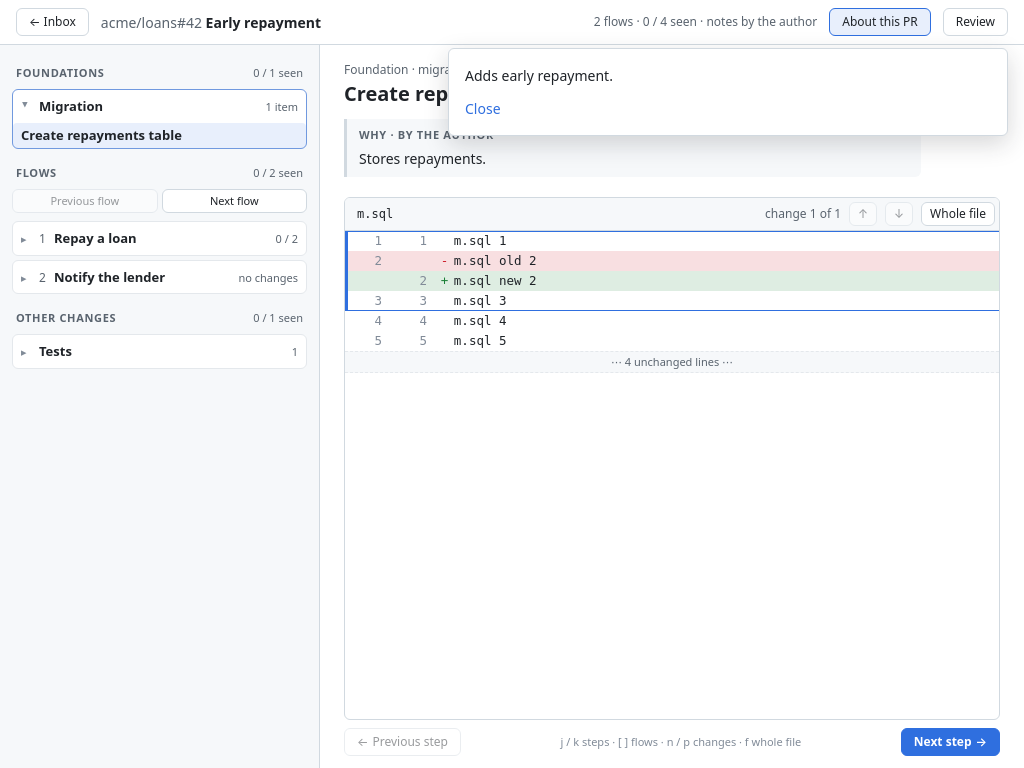
typed text across moves › a comment that was added does not come back
The image size is (1024, 768).
Expected: the text "m.sql new 2" is shown, [454,272,537,288]
Click the button named "Comment on line 2": (412, 280) [390,270,435,290]
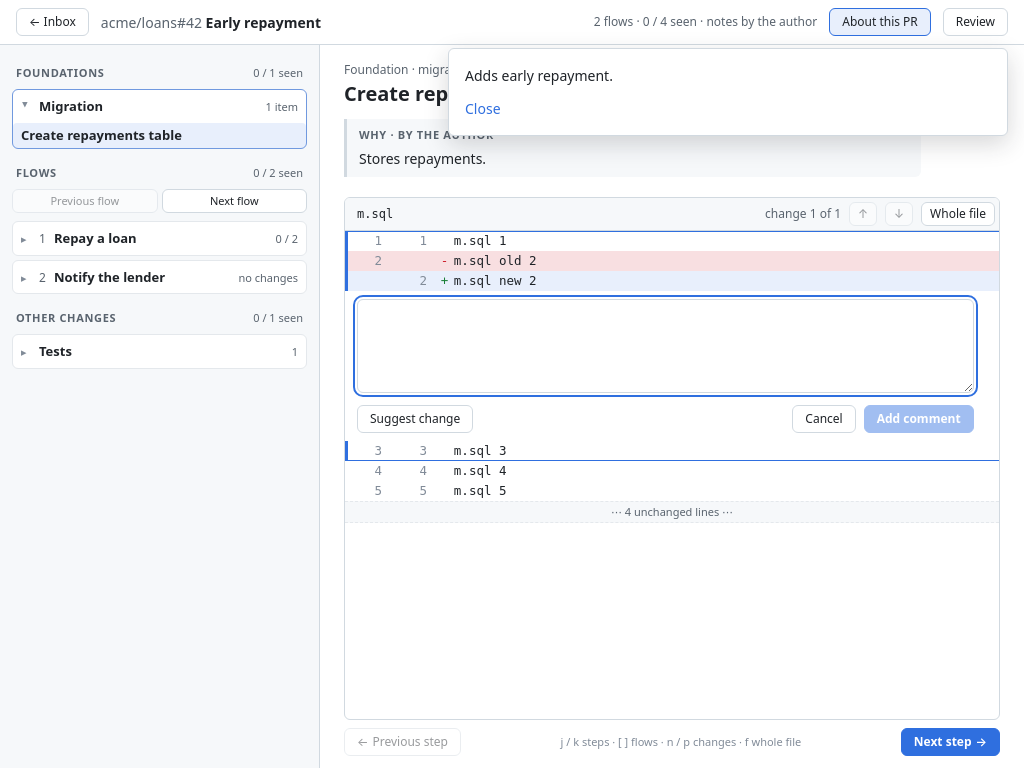
In the text box named "Comment on m.sql": (665, 346) [357,298,974,392], type "Done"
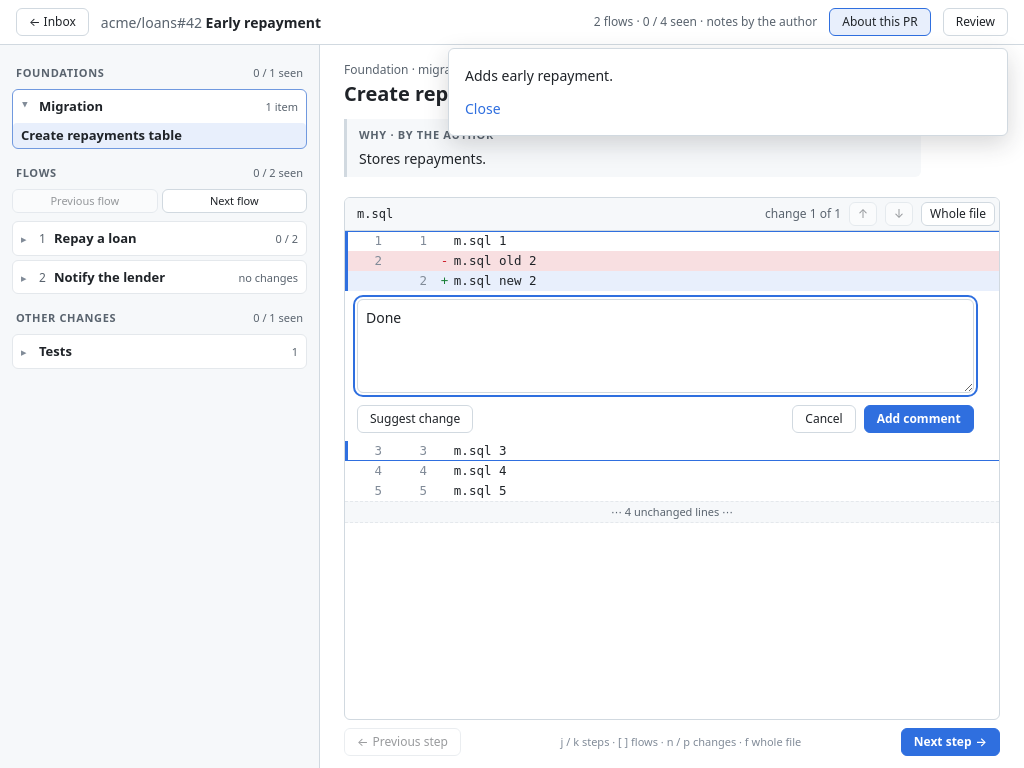
Click the button "Add comment": (919, 418) [864,404,974,432]
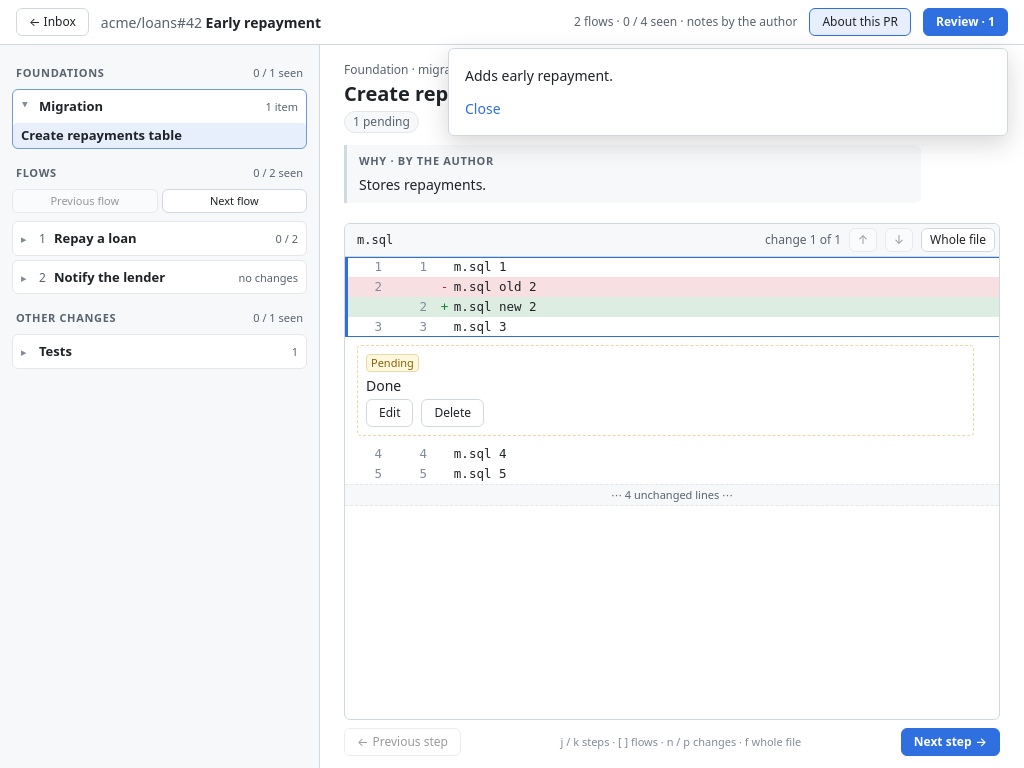
Press j
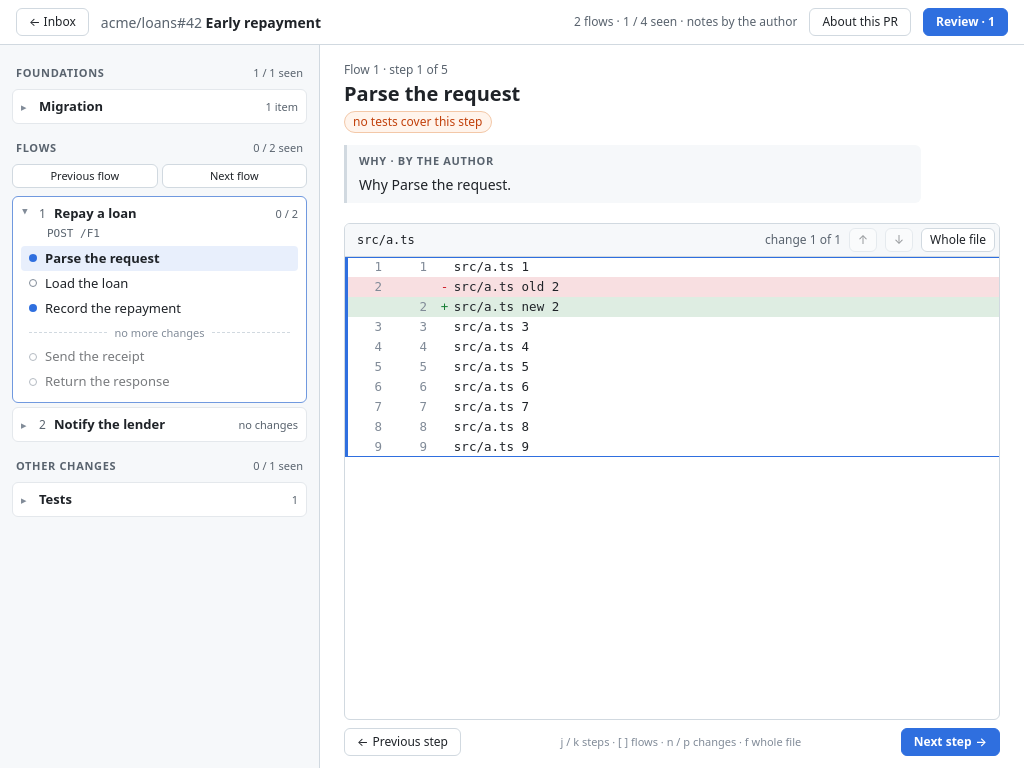
Expected: the text "src/a.ts new 2" is shown, [454,298,559,314]
Expected: the text "m.sql new 2" is gone
Press k
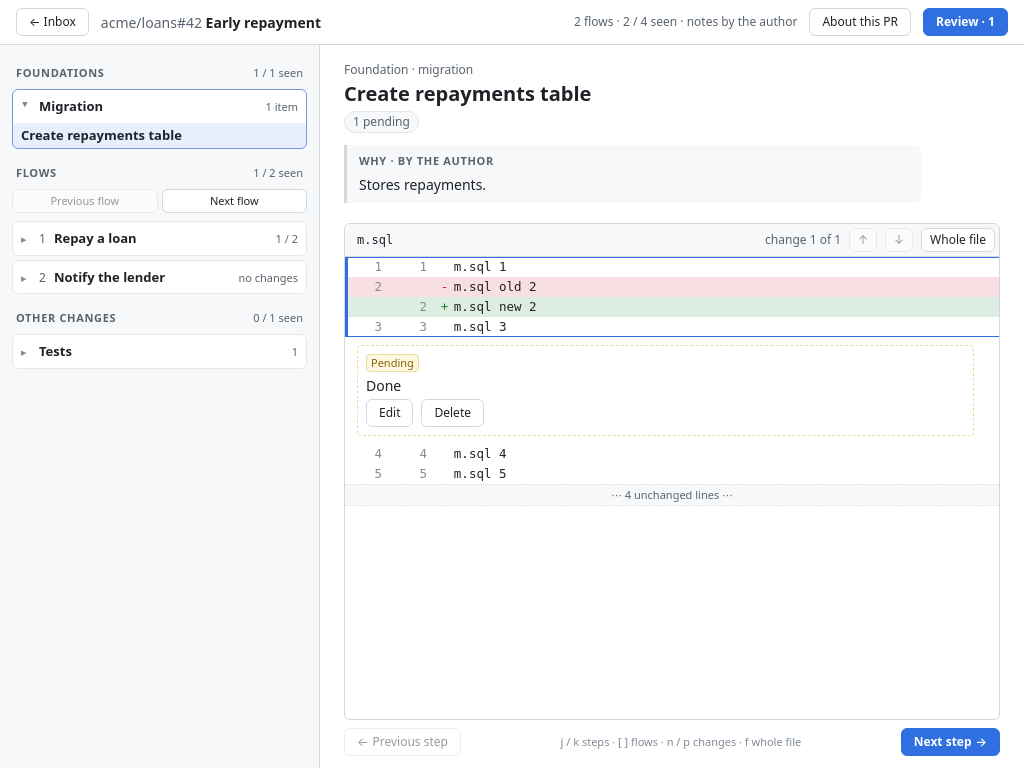
Expected: the text "m.sql new 2" is shown, [454,298,537,314]
